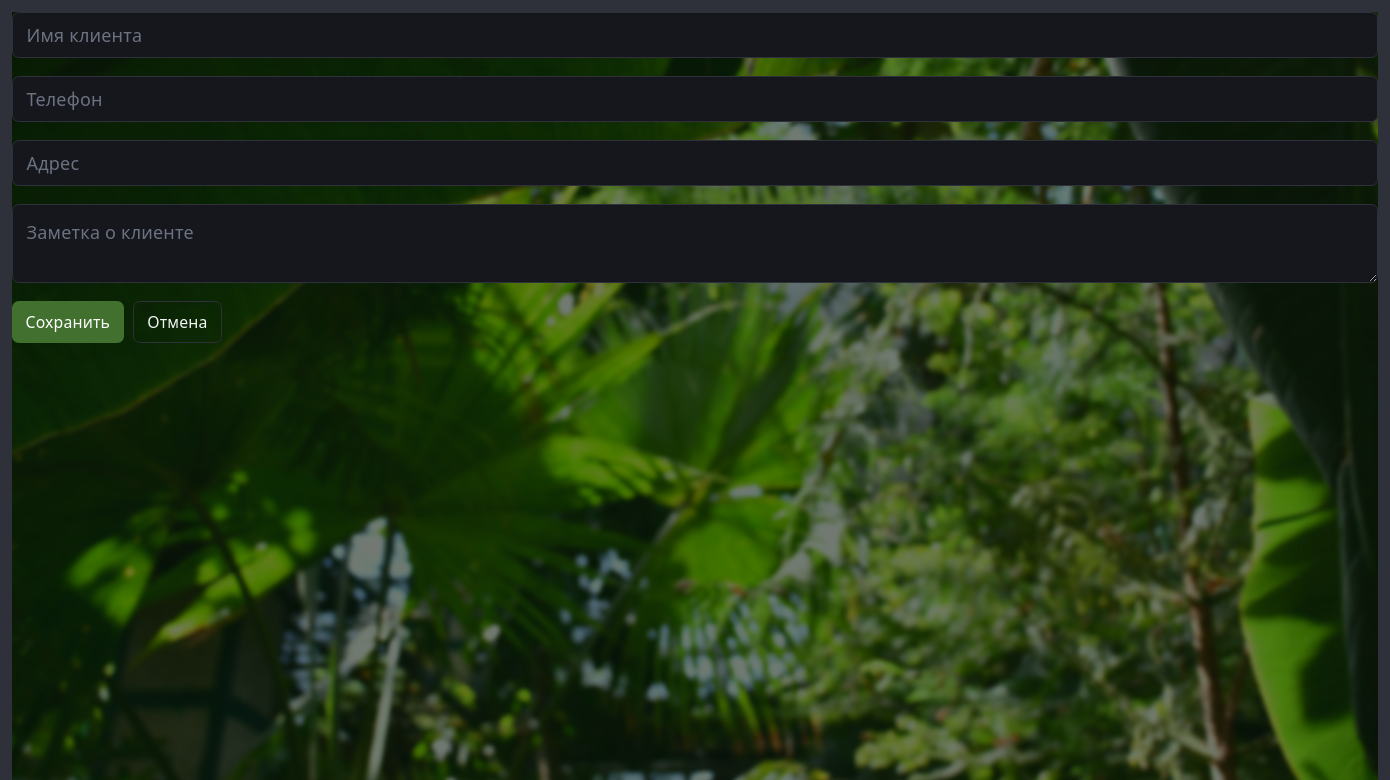
CustomerForm › surfaces a save failure inline and keeps the form open for a retry
Type "Анна" into the field labelled "Имя клиента".
click(695, 35); type("Анна")  # box [12,12,1378,58]
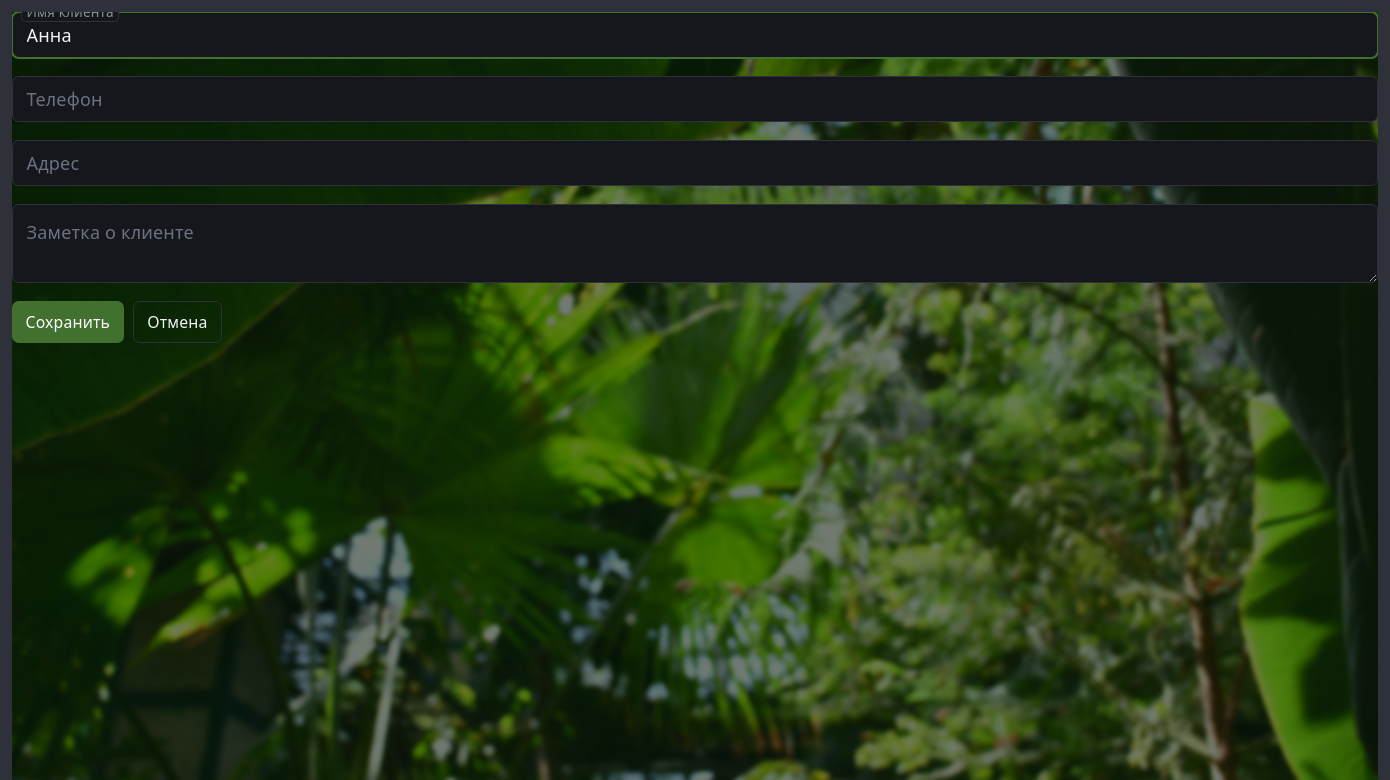
Click the button "Сохранить".
click(68, 322)  # box [12,301,124,343]
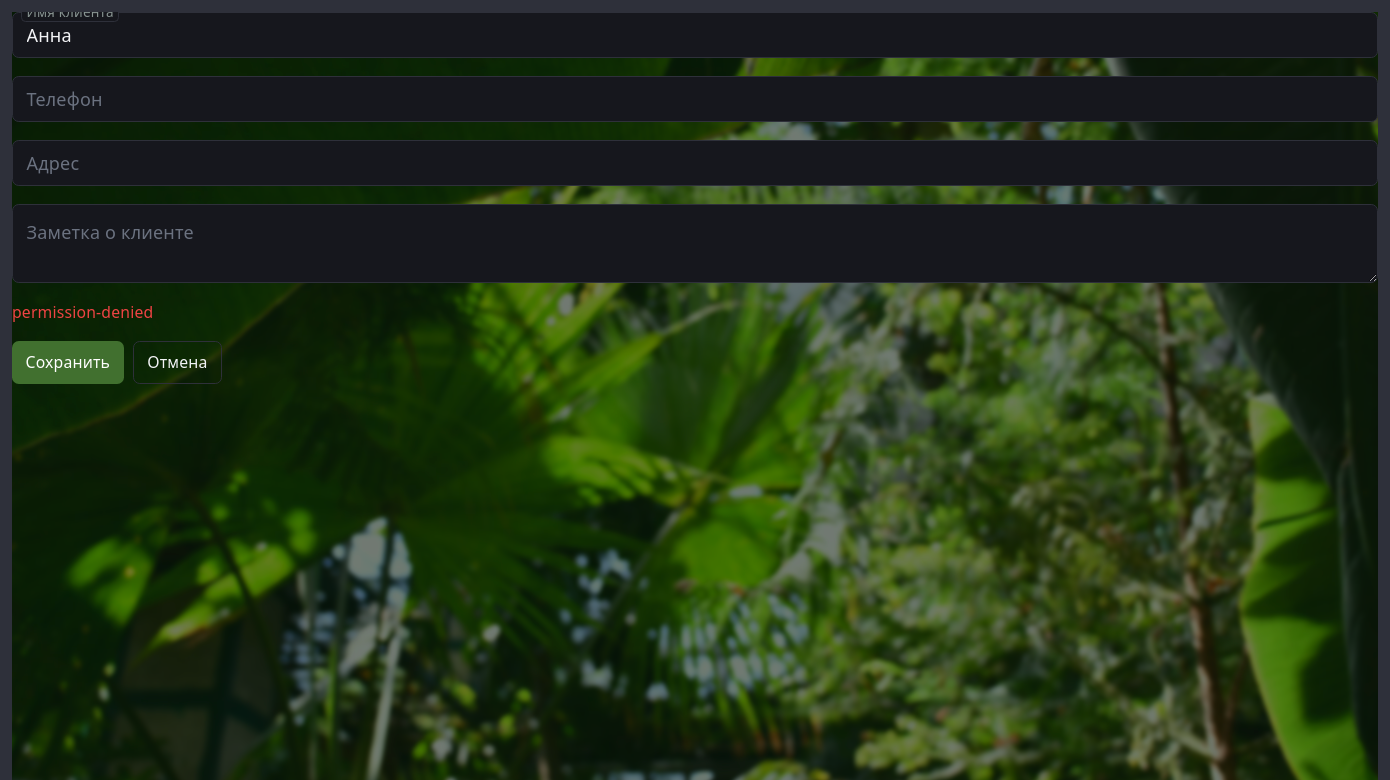
Result: the message reads "permission-denied" at [12,301,153,323]
